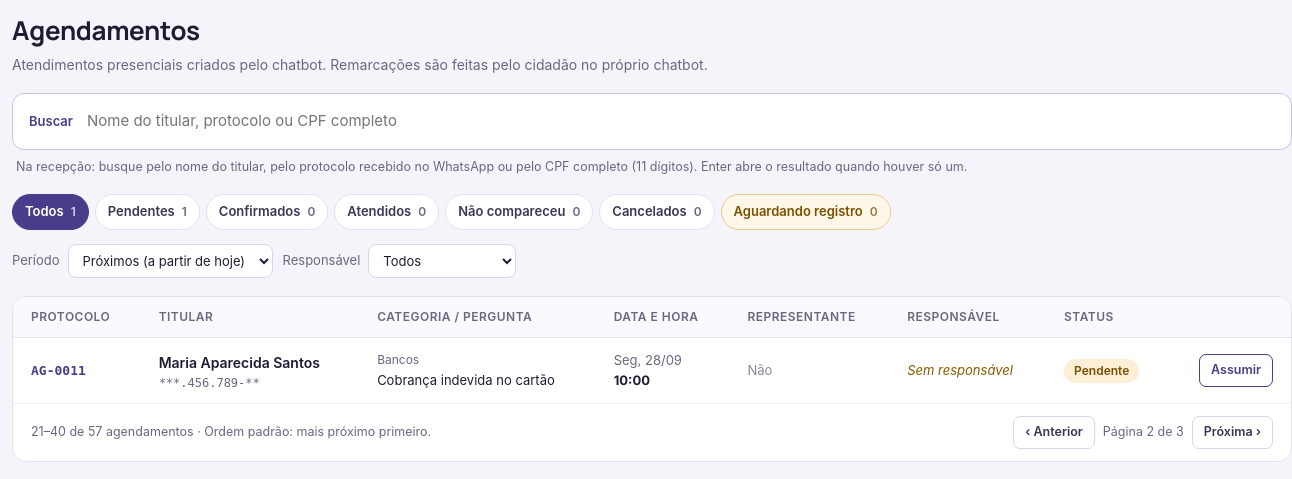
it: Appointments.page: volta à página 1 com várias páginas › o responsável escolhido na página 2 volta à página 1
Expected: the text "Página 2 de 3" is shown, [1103, 423, 1184, 442]
Select "Sem responsável" in the dropdown labelled "Responsável": (442, 261) [368, 244, 516, 278]
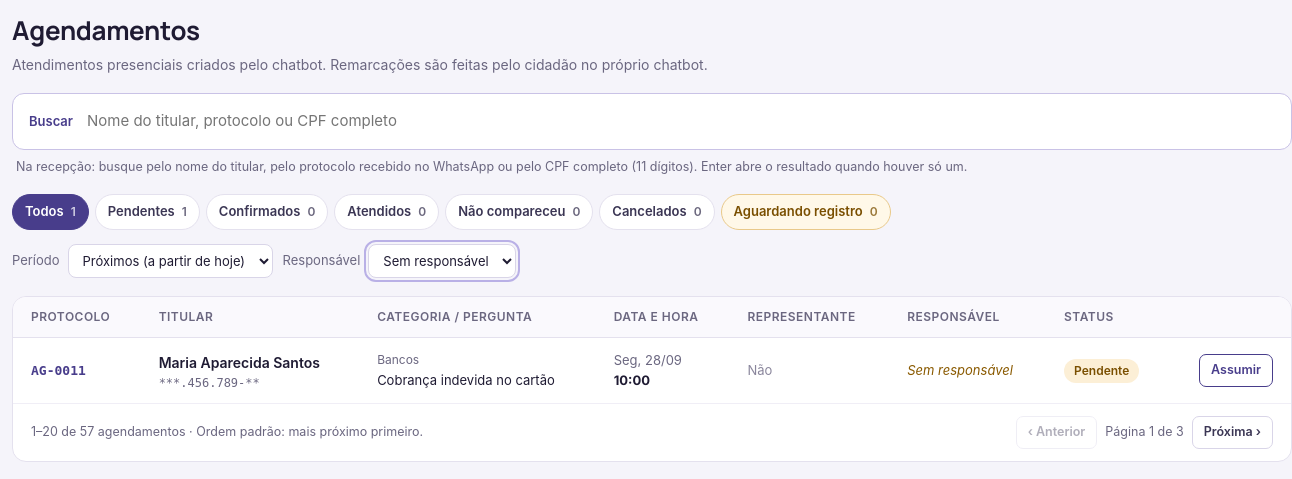
Expected: the text "Página 1 de 3" is shown, [1105, 423, 1184, 442]
